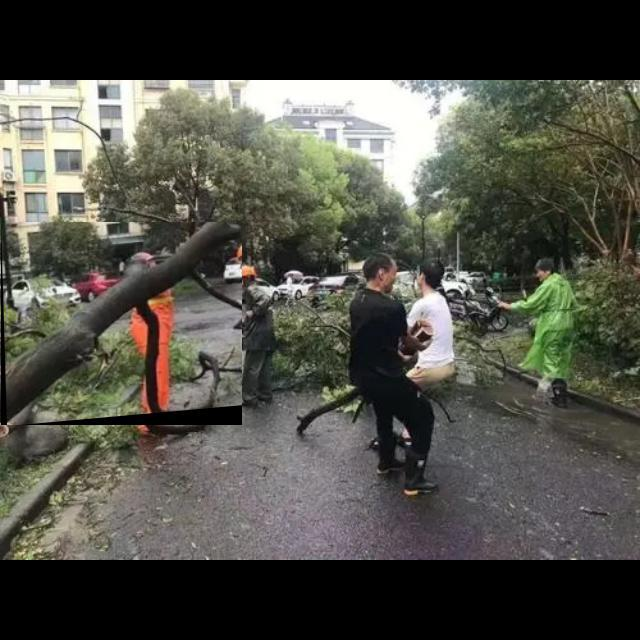fallen_tree: (1, 222, 243, 426)
